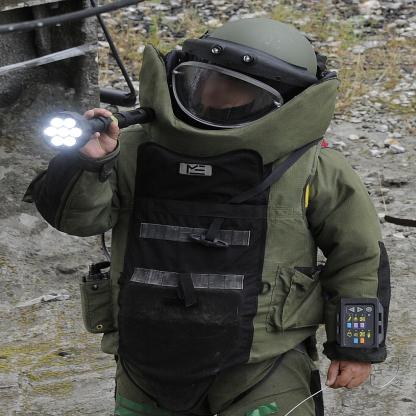Helmet: (116, 20, 347, 180)
